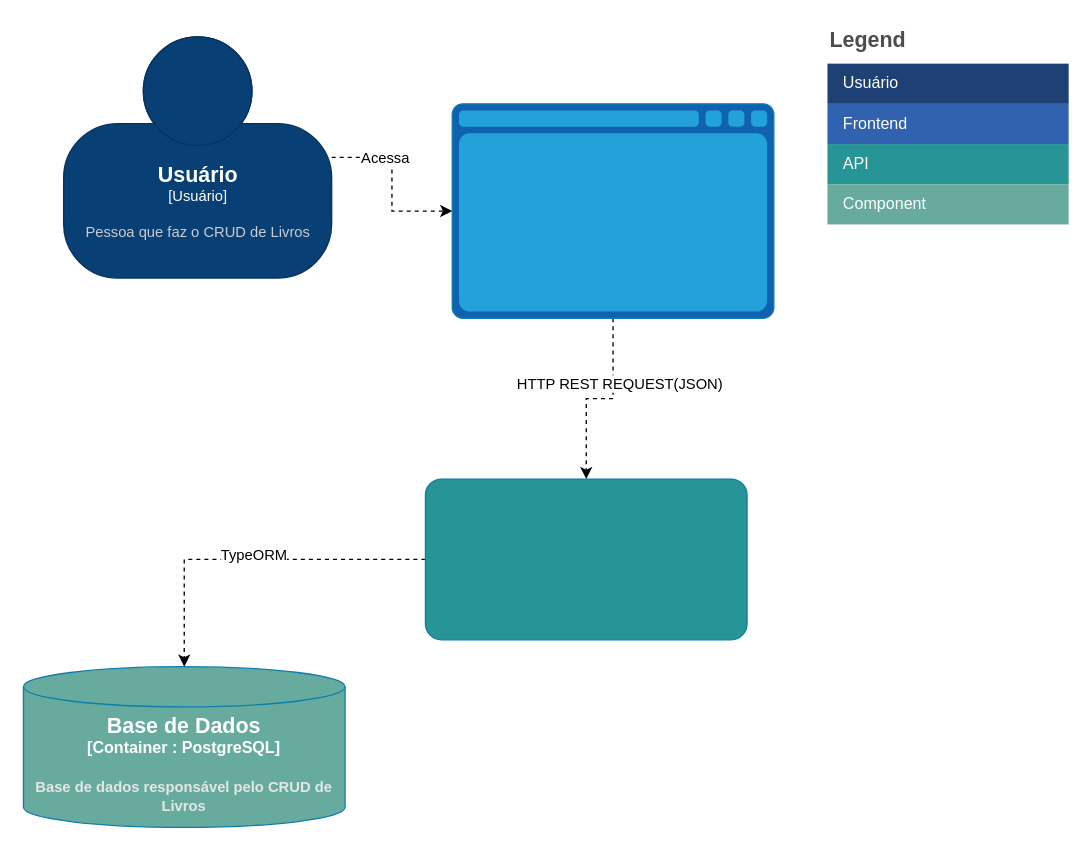
The diagram is 1092 pixels wide and 851 high, and some of its shapes have lost their labels. The centre of each missing label's shape, as x and y in pixels:
API de Biblioteca [API: NodeJS, Typescript, TypeORM] API de Interface do Backend: the point at 585,559
Frontend [Container: NodeJS, Vue] Frontend responsável pelo CRUD de Livros: the point at 612,210
